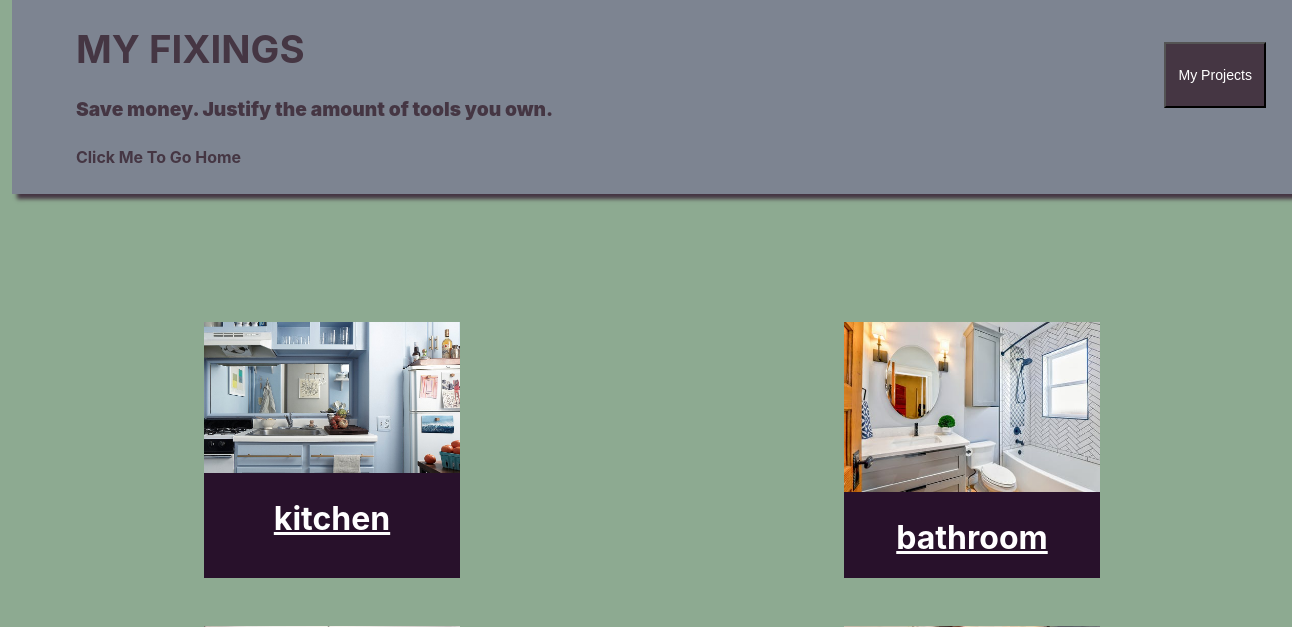
Main Page › User should see error message if they have not added any projects to try yet
Click the link "kitchen" at (332,450), box [204, 322, 460, 578]
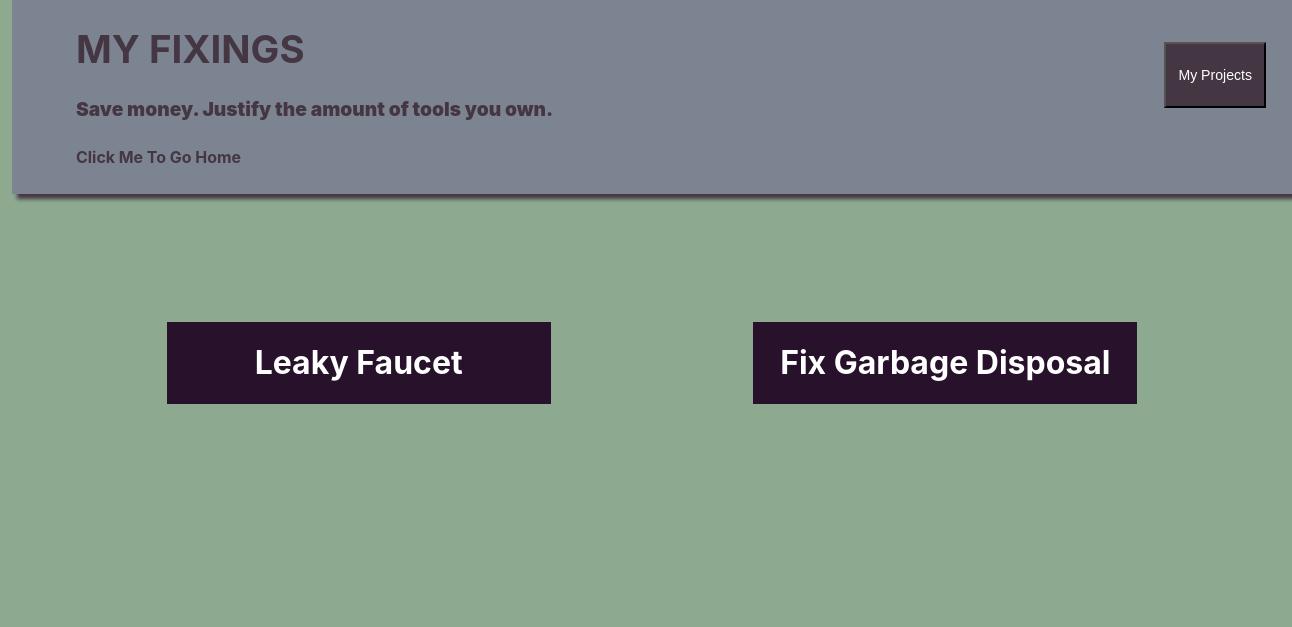
Click the button "My Projects" at (1215,75), box [1164, 42, 1266, 108]
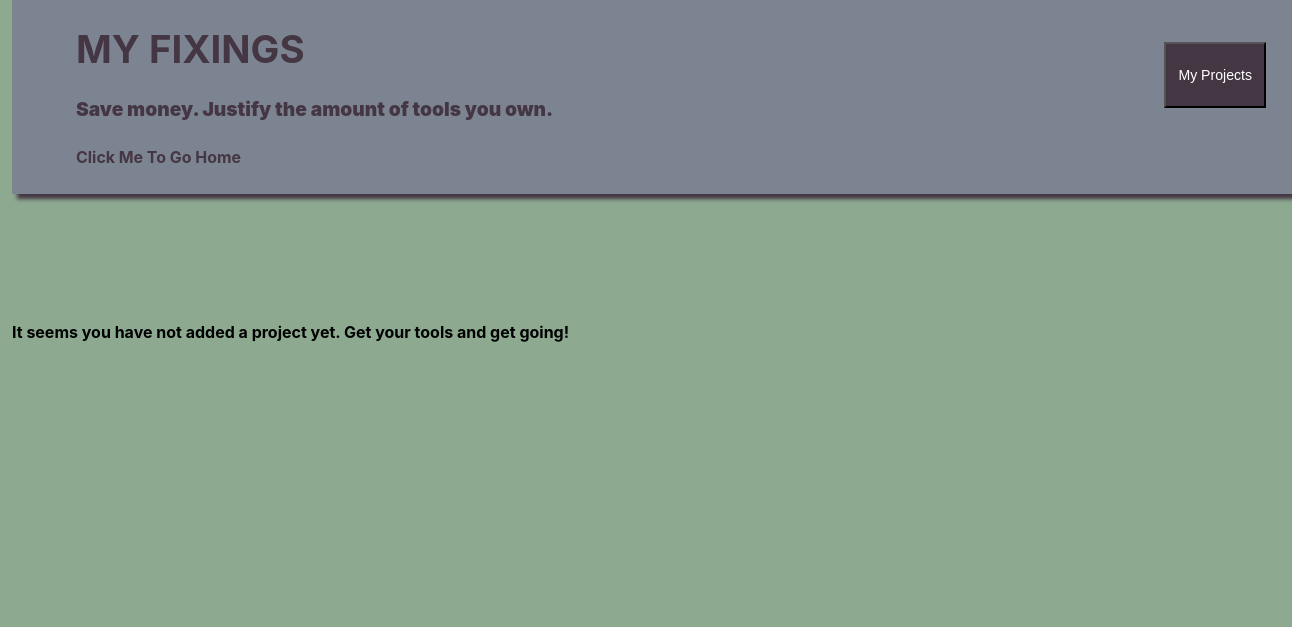
Expected: the heading "It seems you have not added a project yet. Get your tools and get going!" is shown, [12, 322, 569, 342]
